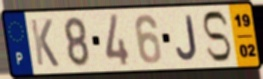4: (104, 12, 132, 69)
6: (133, 13, 163, 66)
8: (62, 16, 91, 69)
J: (175, 13, 199, 62)
K: (28, 17, 61, 69)
S: (200, 9, 233, 64)
